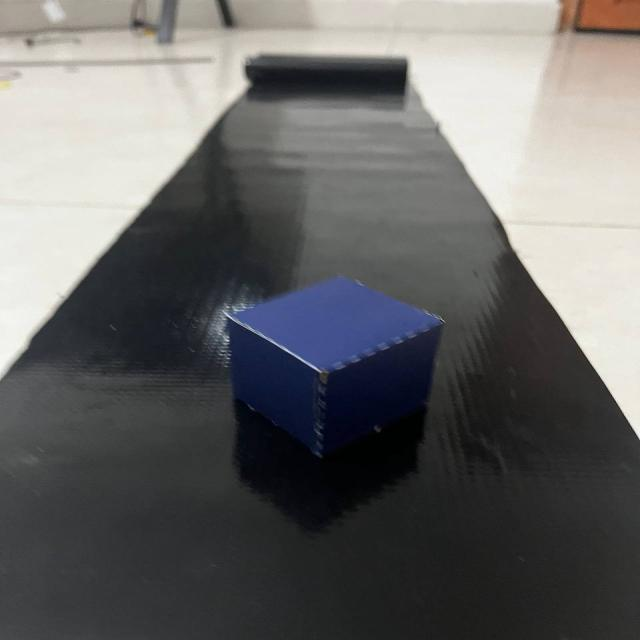Azul: (186, 261, 475, 484)
